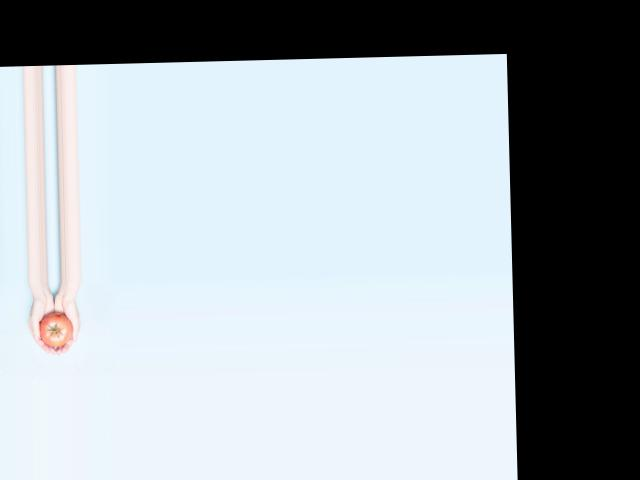tomato: (38, 312, 72, 347)
